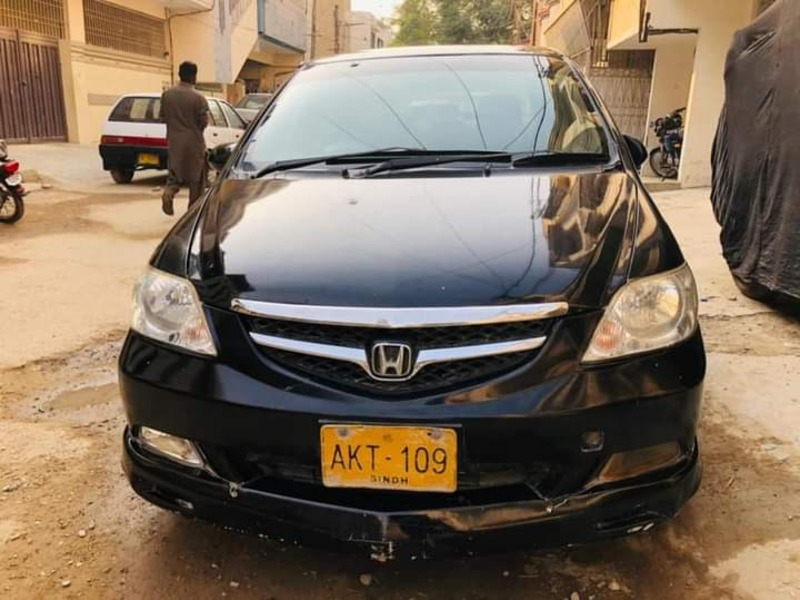License Plate: (315, 419, 464, 493)
